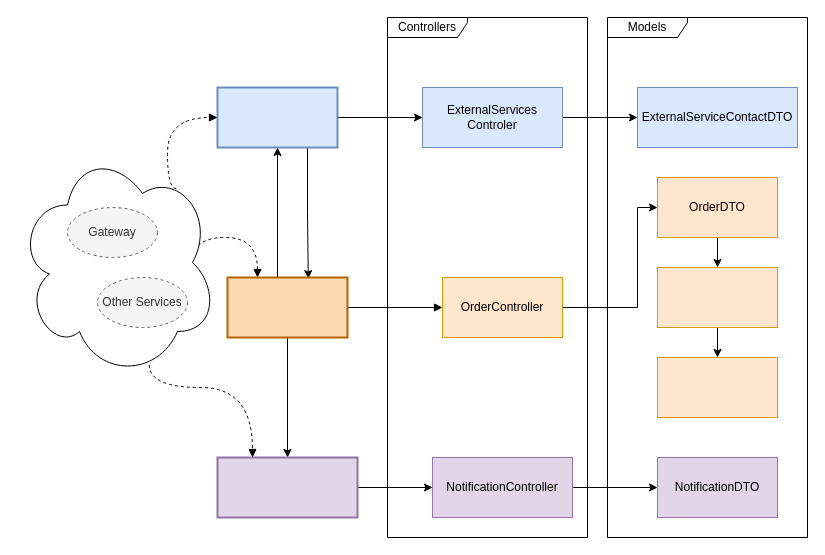
This 825x555 diagram has some shape labels left out. The shapes that lost their labels are listed below. From the top down, each one's centre as x and y in pixels, then its label:
At (x=277, y=117): "ExternalServices".
At (x=287, y=307): "OrderService".
At (x=717, y=297): "OrderBasketDTO".
At (x=717, y=387): "OrderItemDTO".
At (x=287, y=487): "NotificationService".
